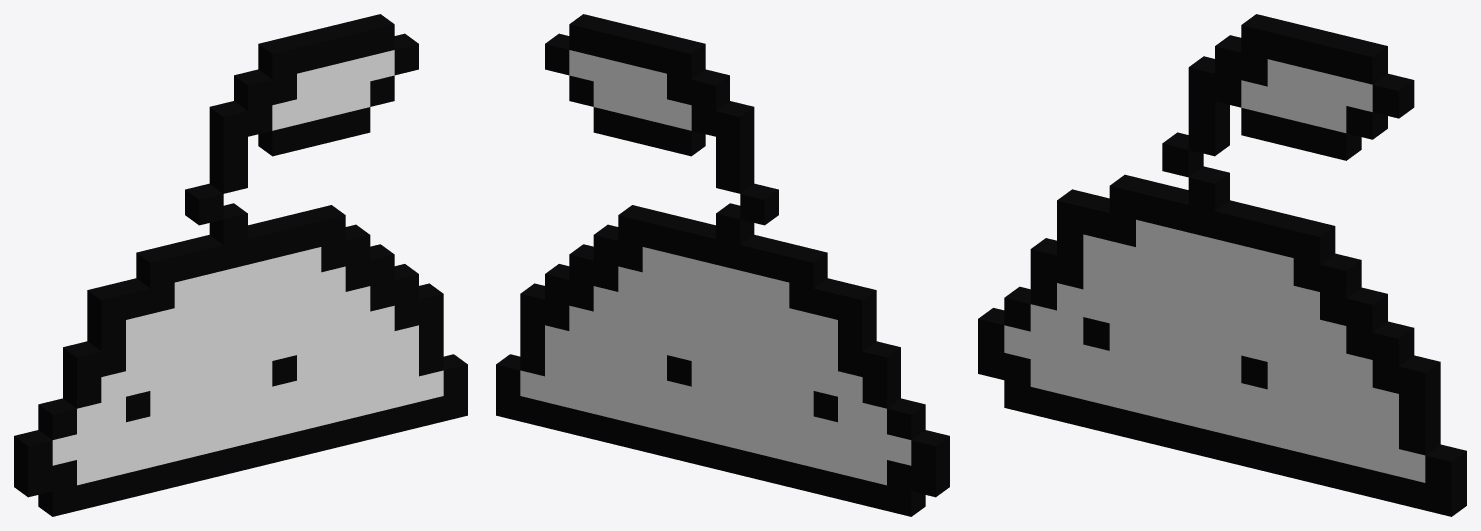
The model's file is slimeking-toss-4.obj.
The picture shows the model from 3 angles, left to right: view 1: azimuth 30°, elevation 25°; view 2: azimuth 150°, elevation 25°; view 3: azimuth 330°, elevation 25°; orthographic projection. The views are drawn at different scales.
Size of the model in its own units: 1.8 by 1.6 by 0.1.
1 material, 1 textured.
